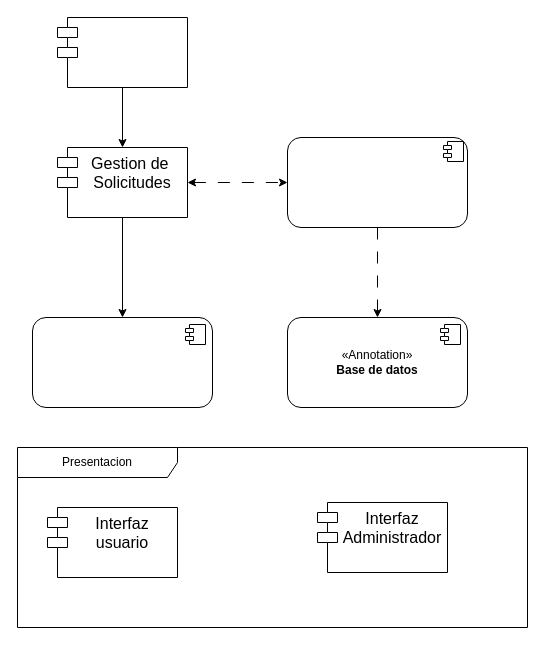
The diagram is 545 pixels wide and 645 high, and some of its shapes have lost their labels. The shapes that lost their labels are listed below. From the top down, each one's centre as x and y in pixels, then its label:
At (x=122, y=52): "Gestion de Usuario".
At (x=377, y=182): "Libro + titulo: Type + autor: Type + Editorial".
At (x=122, y=362): "«Annotation» Notificaciones".
